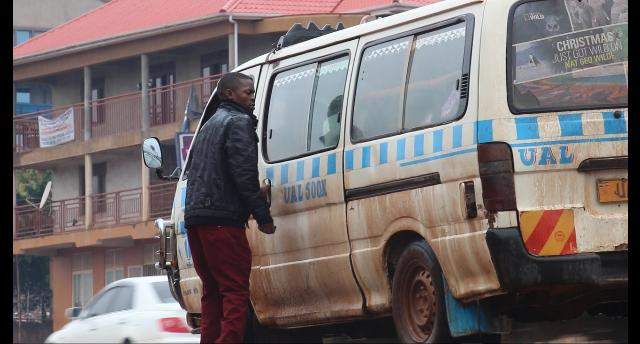van: (267, 0, 626, 343)
